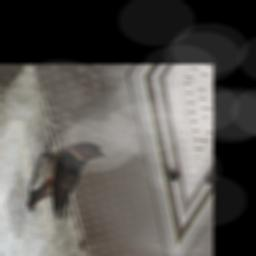Swallow: (22, 137, 108, 223)
